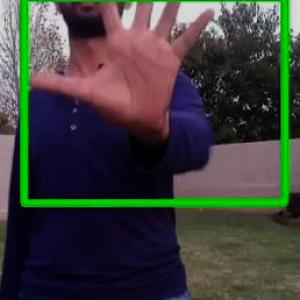follow_hand: (28, 0, 219, 135)
